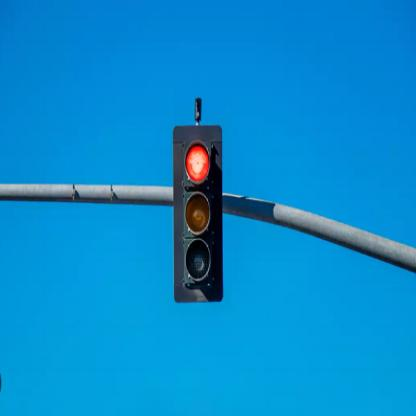red: (173, 125, 222, 303)
